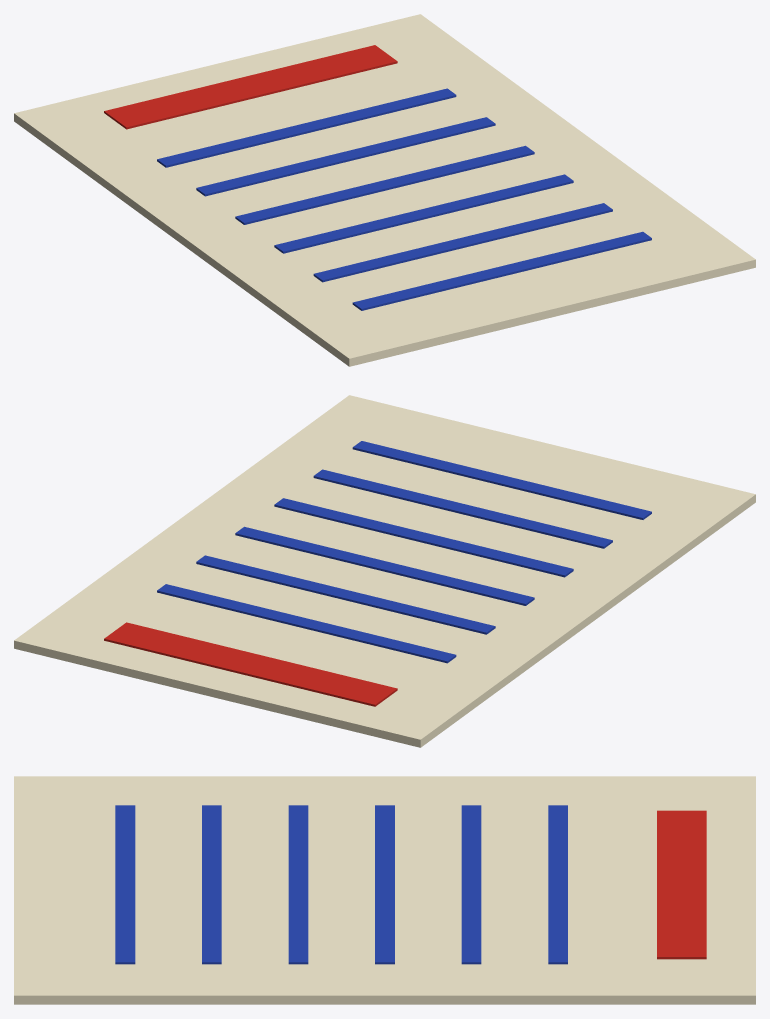
Rendered from next_ranking.glb.
3 views of the same model, one above another, from view 1: azimuth 30°, elevation 25°; view 2: azimuth 150°, elevation 25°; view 3: azimuth 270°, elevation 25° (orthographic). The views are drawn at different scales.
Parts seen in each view (by area): view 1: sheet_page_cream, lines_ink_blue (×6), title_cross_red; view 2: sheet_page_cream, lines_ink_blue (×6), title_cross_red; view 3: sheet_page_cream, lines_ink_blue (×6), title_cross_red.
Boxes of the visible parts, left/top/right/bottom form: sheet_page_cream: left=14, top=14, right=755, bottom=366; lines_ink_blue (×6): left=157, top=88, right=651, bottom=310; title_cross_red: left=104, top=45, right=397, bottom=129; sheet_page_cream: left=14, top=395, right=755, bottom=747; lines_ink_blue (×6): left=157, top=441, right=651, bottom=663; title_cross_red: left=104, top=622, right=397, bottom=706; sheet_page_cream: left=14, top=776, right=755, bottom=1004; lines_ink_blue (×6): left=115, top=805, right=567, bottom=964; title_cross_red: left=657, top=810, right=706, bottom=959.
Bounding box in the file's own units: 0.21 × 0.005 × 0.3.
